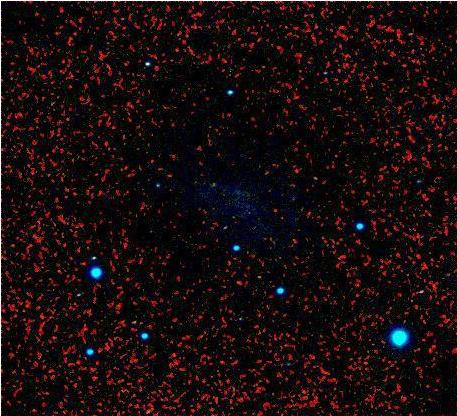star: (196, 162, 226, 192)
